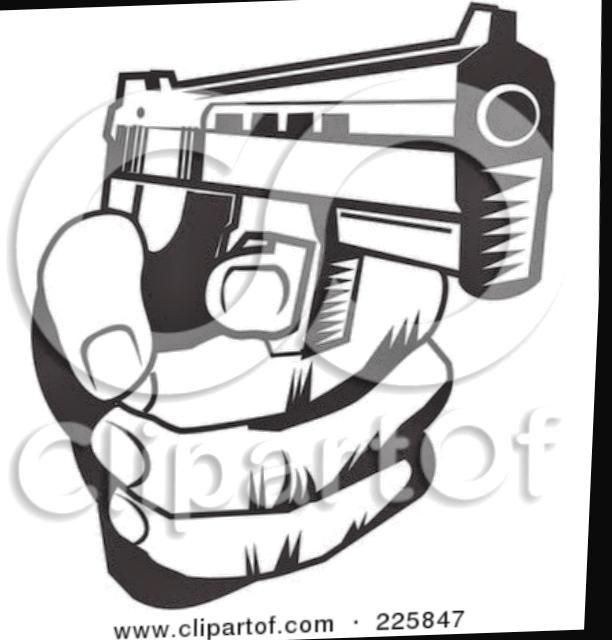pistol: (90, 0, 571, 341)
